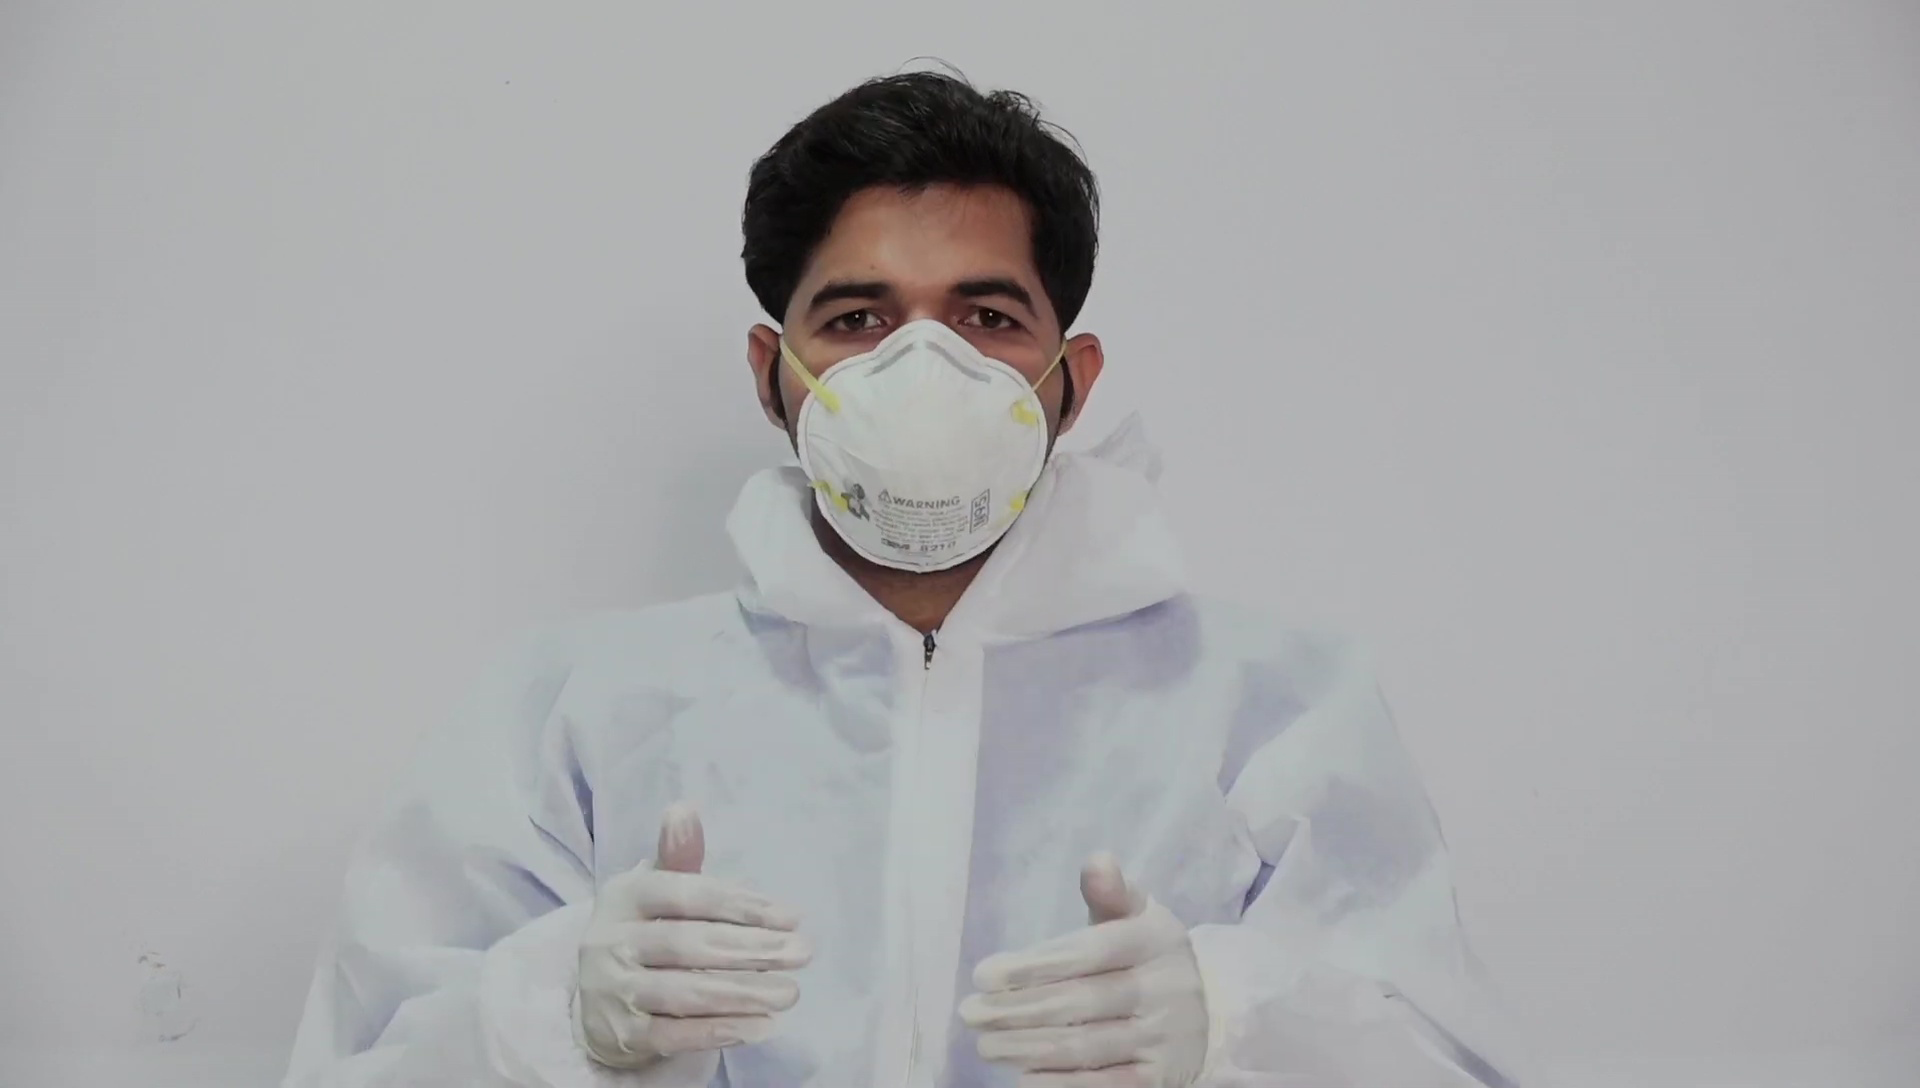Coverall: (287, 587, 1512, 1087)
Gloves: (569, 801, 816, 1076), (955, 850, 1210, 1083)
with_mask: (796, 291, 1057, 575)
